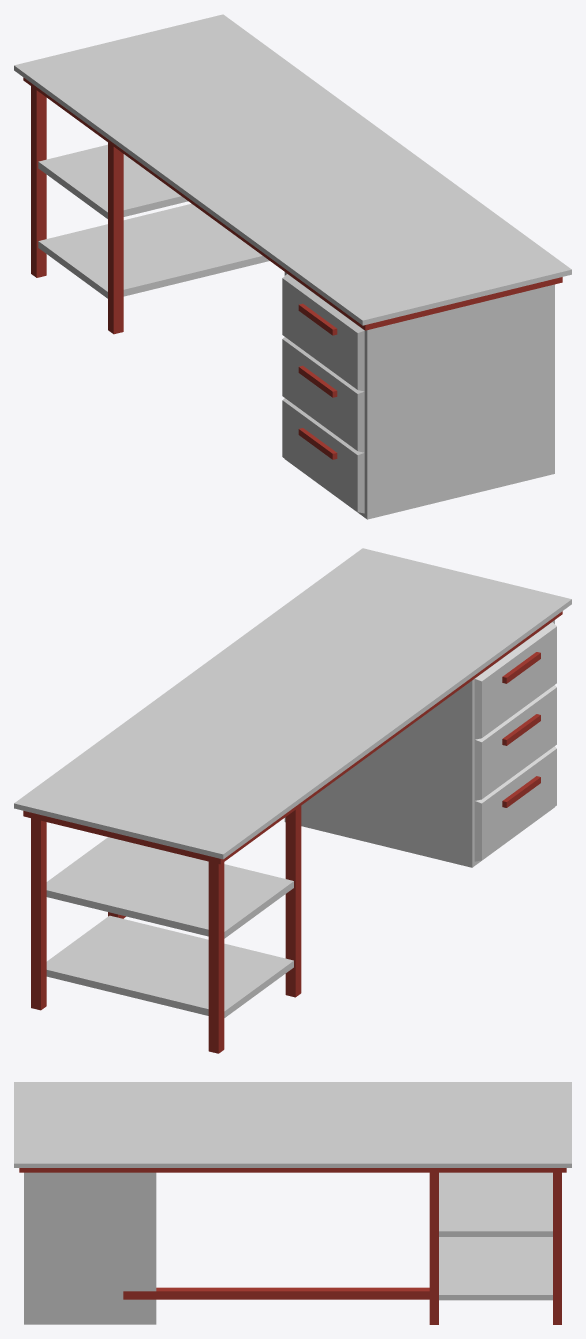
File: SM_Desk_01.fbx
3 views of the same model, one above another, from view 1: azimuth 30°, elevation 25°; view 2: azimuth 150°, elevation 25°; view 3: azimuth 270°, elevation 25° (orthographic). The views are drawn at different scales.
Visible parts, largest first — view 1: SM_Desk_01; view 2: SM_Desk_01; view 3: SM_Desk_01.
Boxes of the visible parts, x1,y1,x2,y2 form: SM_Desk_01: (14, 14, 571, 519); SM_Desk_01: (14, 548, 571, 1053); SM_Desk_01: (14, 1082, 571, 1324).
Bounding box in the file's own units: 106 × 100 × 306.
